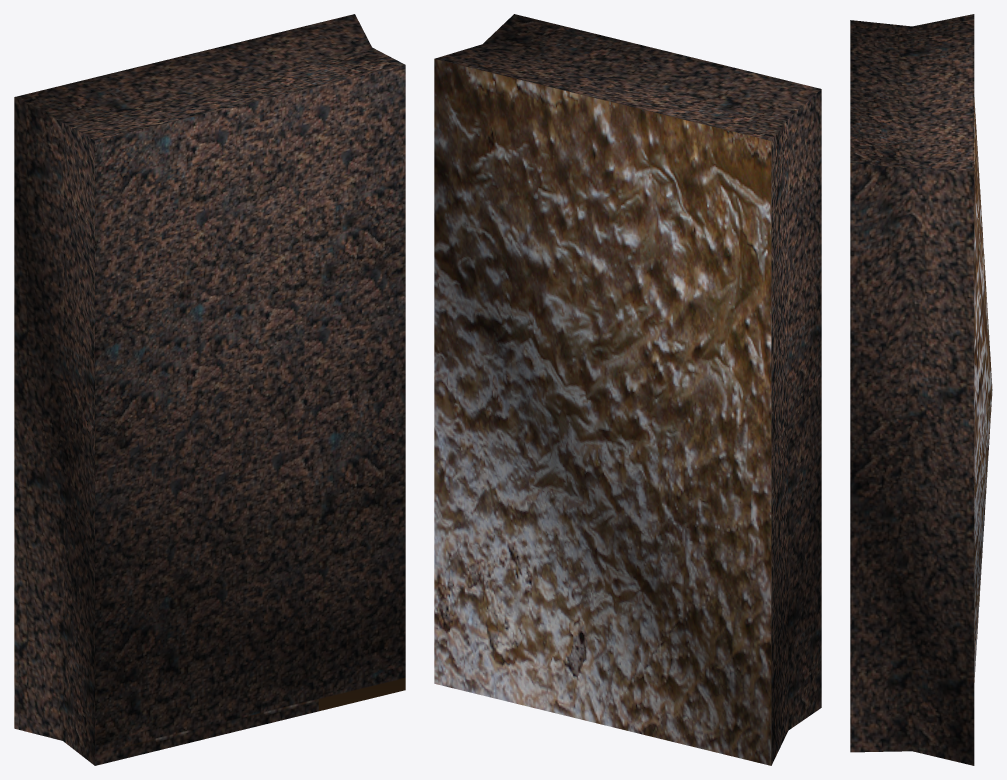
File: brownie.fbx
The picture shows the model from 3 angles, left to right: view 1: azimuth 30°, elevation 25°; view 2: azimuth 150°, elevation 25°; view 3: azimuth 270°, elevation 25°; orthographic projection. The views are drawn at different scales.
Parts seen in each view (by area): view 1: Brownie; view 2: Brownie; view 3: Brownie.
Part boxes in pixels (x1,y1,x2,y2): Brownie: (14, 14, 405, 765); Brownie: (434, 14, 821, 765); Brownie: (850, 14, 992, 765).
Bounding box in the file's own units: 2.73 × 4.85 × 1.05.
Materials: 1 (1 with a texture image).
